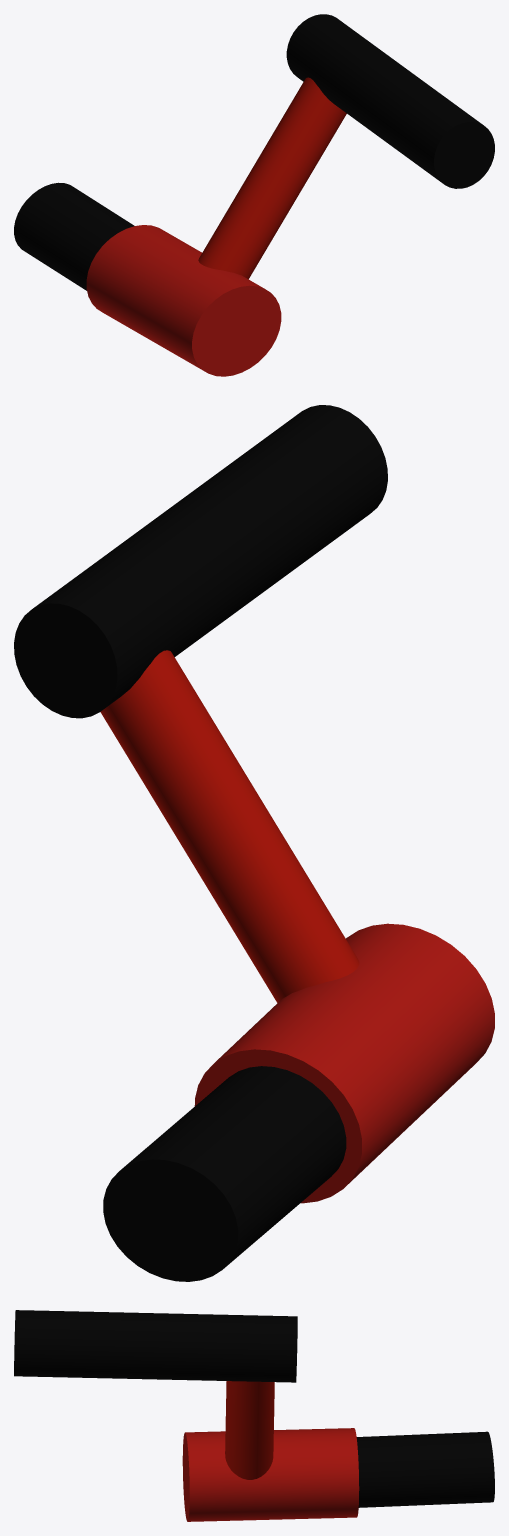
File: Rell.fbx
3 renders of one model, top to bottom at view 1: azimuth 30°, elevation 25°; view 2: azimuth 150°, elevation 25°; view 3: azimuth 270°, elevation 25°, orthographic. The views are drawn at different scales.
Parts seen in each view (by area): view 1: Silinder.007, Silinder.006, Silinder.005, Silinder.004; view 2: Silinder.006, Silinder.007, Silinder.004, Silinder.005; view 3: Silinder.006, Silinder.007, Silinder.004, Silinder.005.
Part boxes in pixels (<box>): Silinder.007: <box>86,225,281,376</box>; Silinder.006: <box>286,14,494,188</box>; Silinder.005: <box>198,77,346,279</box>; Silinder.004: <box>14,182,134,290</box>; Silinder.006: <box>14,405,387,718</box>; Silinder.007: <box>194,923,494,1203</box>; Silinder.004: <box>103,1066,346,1281</box>; Silinder.005: <box>100,650,359,1002</box>; Silinder.006: <box>14,1310,297,1382</box>; Silinder.007: <box>182,1428,359,1521</box>; Silinder.004: <box>356,1431,494,1507</box>; Silinder.005: <box>225,1381,274,1479</box>.
Size of the model in its own units: 15.18 by 18.06 by 29.38.
